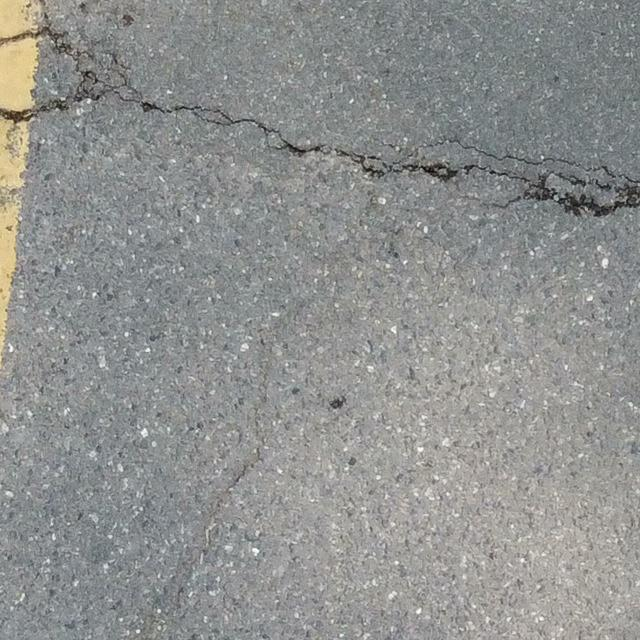TransverseCrack: (1, 27, 640, 218)
